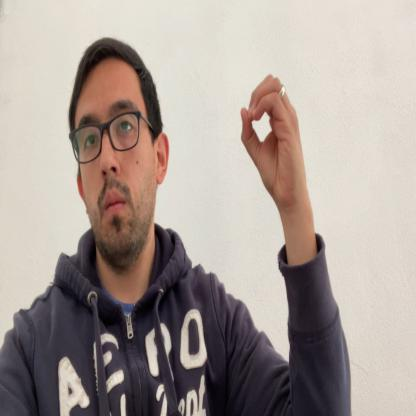O: (239, 72, 304, 204)
